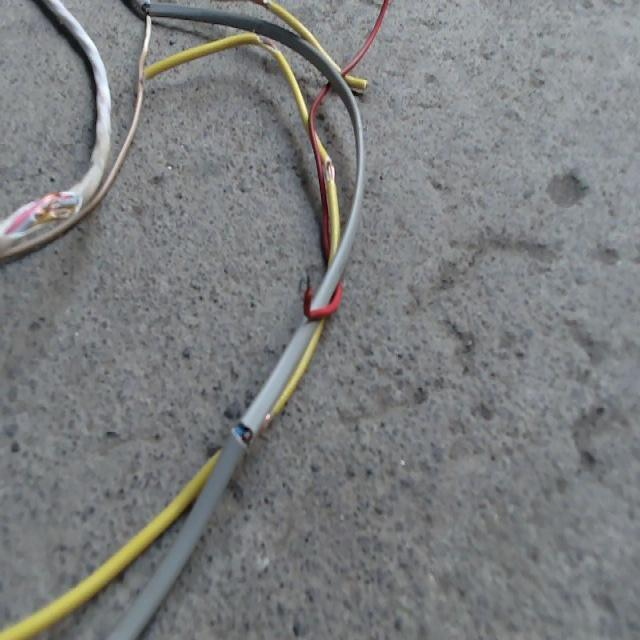-: (1, 188, 83, 235), (232, 418, 251, 450), (252, 30, 277, 54), (320, 156, 336, 185)
